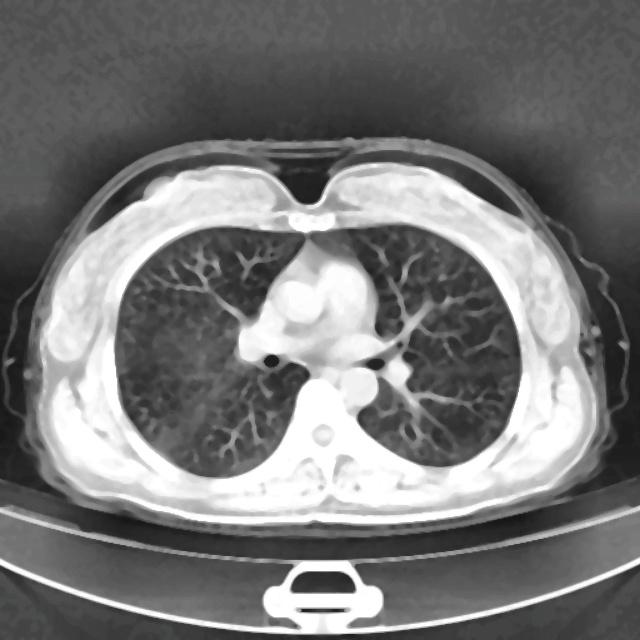covid: (10, 137, 628, 538)
